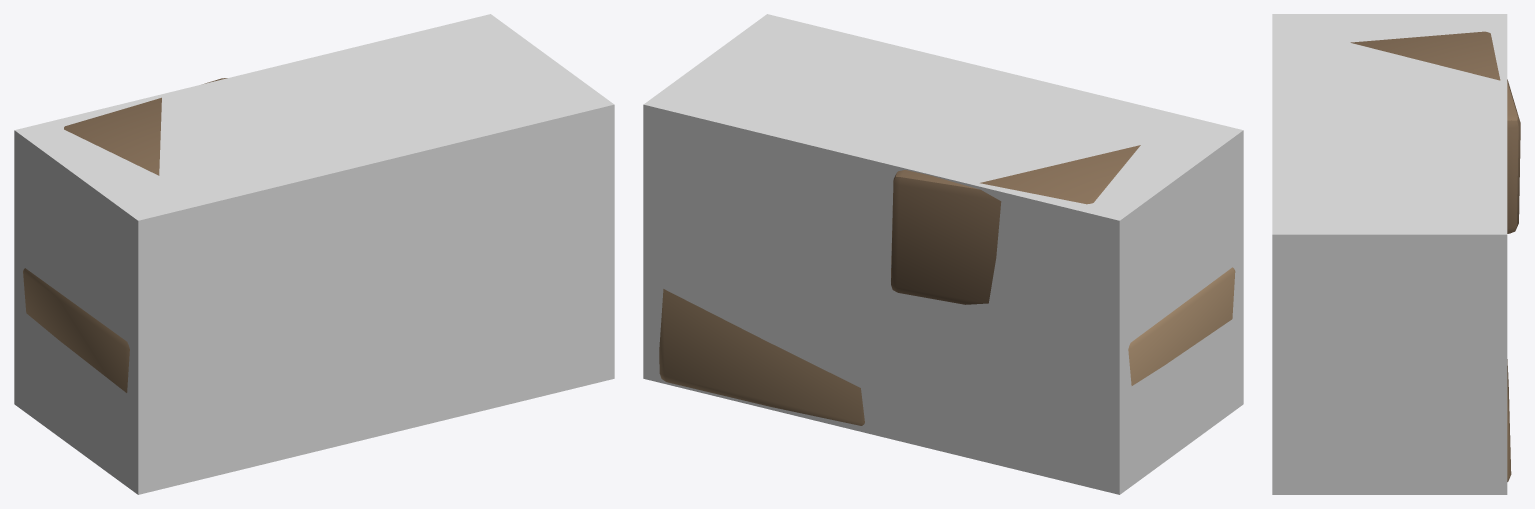
Rendered from crate_stack.glb.
The picture shows the model from 3 angles, left to right: view 1: azimuth 30°, elevation 25°; view 2: azimuth 150°, elevation 25°; view 3: azimuth 270°, elevation 25°; orthographic projection. The views are drawn at different scales.
Parts seen in each view (by area): view 1: crate_stack-col, crate_stack; view 2: crate_stack-col, crate_stack; view 3: crate_stack-col, crate_stack.
Part boxes in pixels (<box>): crate_stack-col: <box>14,14,614,494</box>; crate_stack: <box>23,78,227,392</box>; crate_stack-col: <box>643,14,1243,494</box>; crate_stack: <box>659,145,1235,425</box>; crate_stack-col: <box>1272,14,1507,494</box>; crate_stack: <box>1350,31,1520,481</box>.
Size of the model in its own units: 2.01 by 1.11 by 0.9521.
